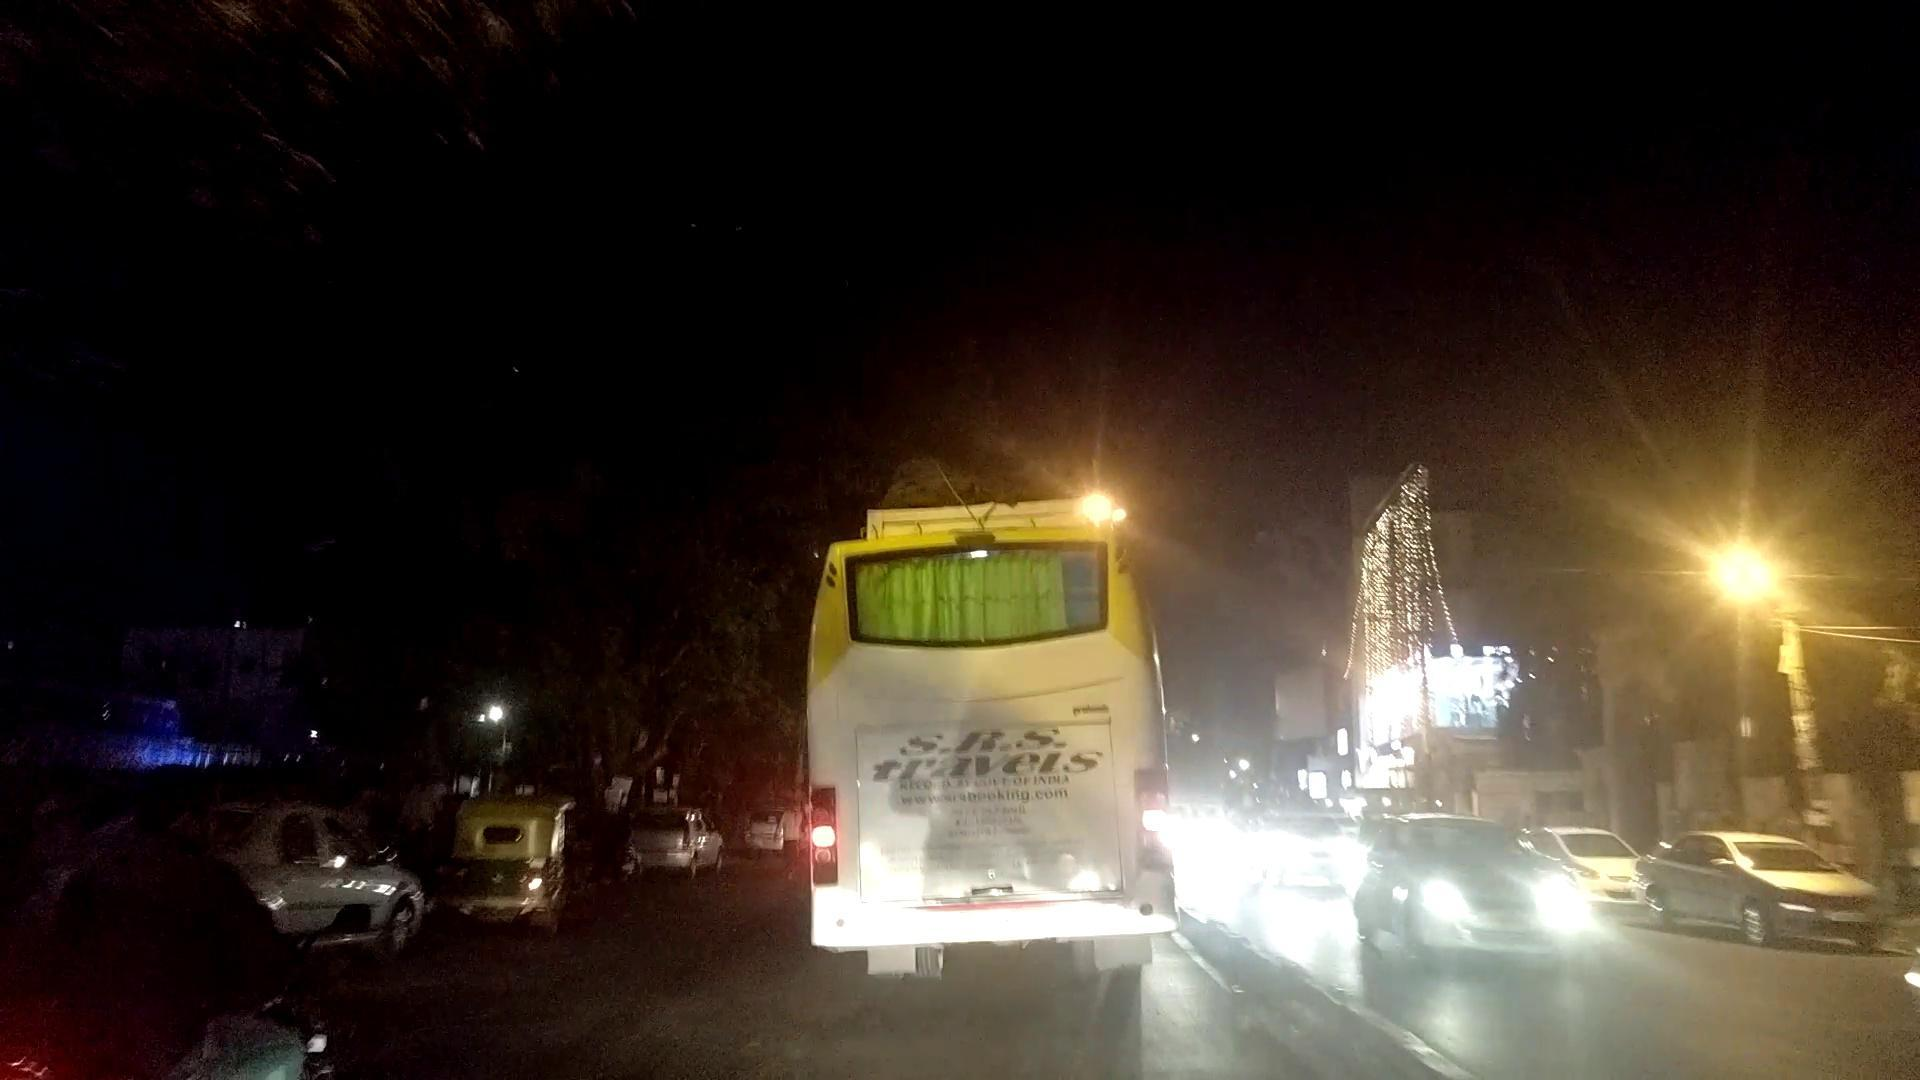on: (1560, 363, 1879, 731), (1030, 342, 1303, 579)
